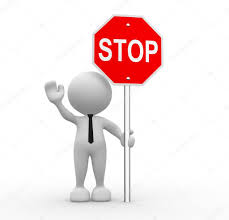stop sign: (93, 13, 162, 84)
